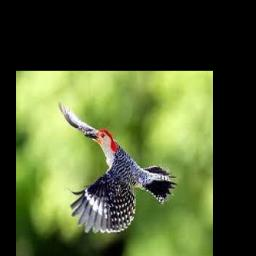Woodpecker: (58, 100, 176, 233)
